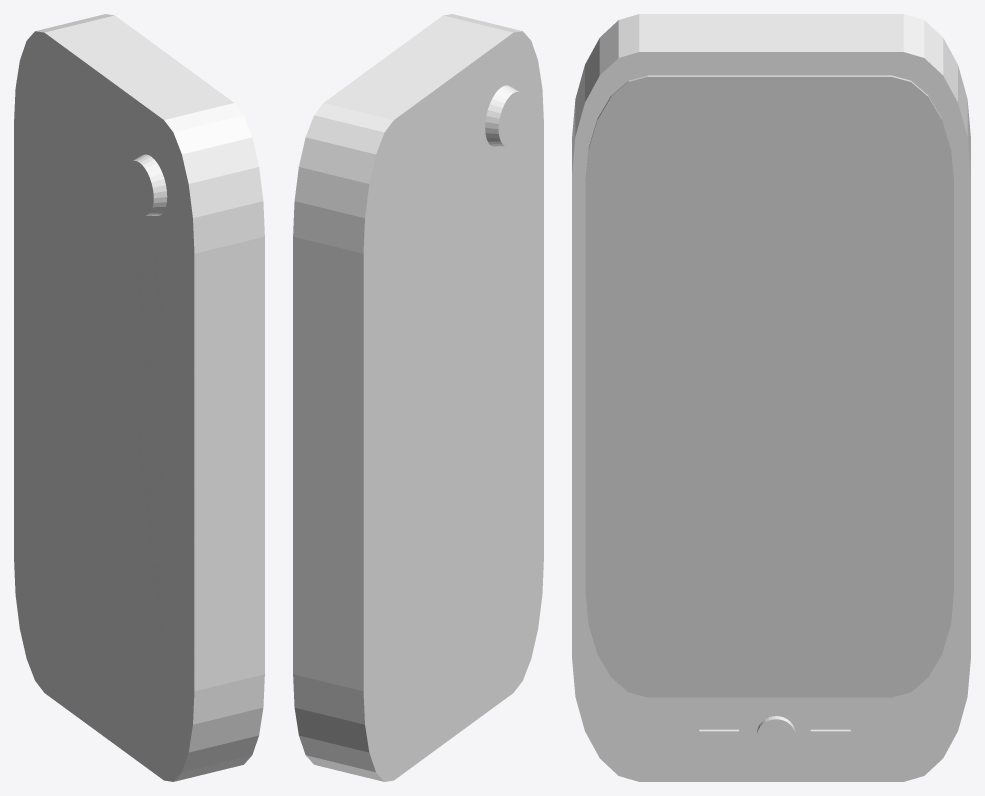
The model's file is phone.fbx.
3 renders of one model, left to right at view 1: azimuth 30°, elevation 25°; view 2: azimuth 150°, elevation 25°; view 3: azimuth 270°, elevation 25°, orthographic. The views are drawn at different scales.
Parts seen in each view (by area): view 1: Cube.003; view 2: Cube.003; view 3: Cube.001, Cube.003.
Part boxes in pixels (x1,y1,x2,y2): Cube.003: (14, 14, 264, 781); Cube.003: (293, 14, 543, 781); Cube.001: (585, 75, 953, 697); Cube.003: (572, 14, 970, 781).
Bounding box in the file's own units: 56.35 × 404 × 200.
